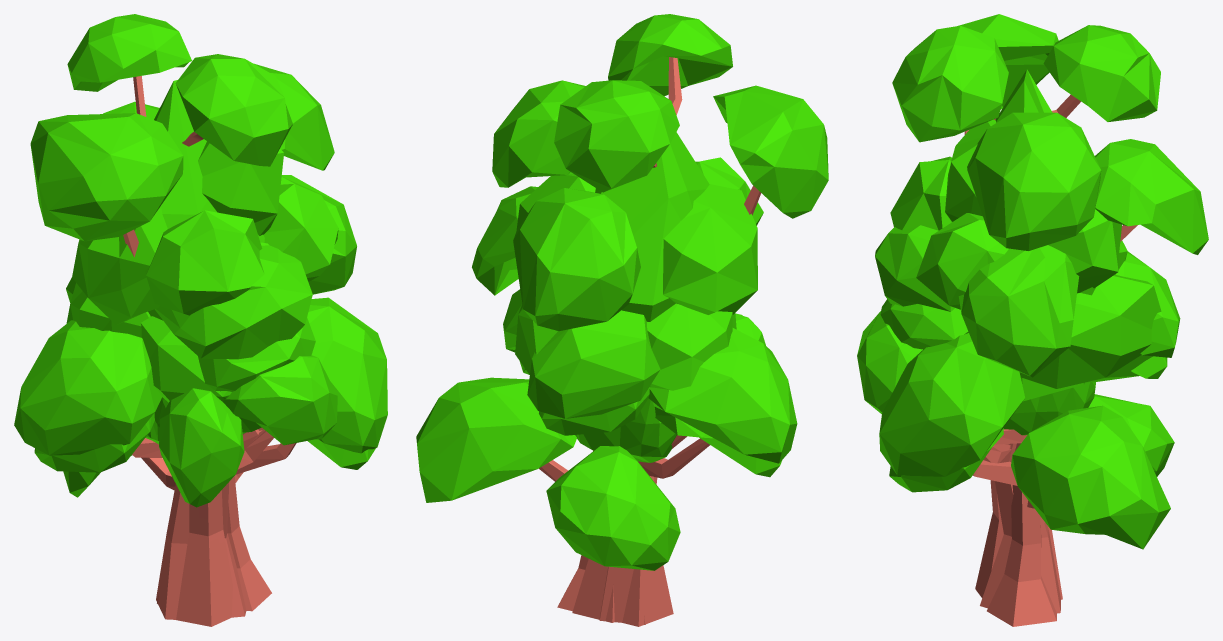
File: Trees.fbx
3 renders of one model, left to right at view 1: azimuth 30°, elevation 25°; view 2: azimuth 150°, elevation 25°; view 3: azimuth 270°, elevation 25°, orthographic. The views are drawn at different scales.
Visible parts, largest first — view 1: SM_Env_TreeBirch_02, SM_Env_Tree_012, SM_Env_Tree_016, SM_Env_Tree_015, SM_Env_Tree_010, SM_Env_Tree_011; view 2: SM_Env_TreeBirch_02, SM_Env_Tree_012, SM_Env_Tree_016, SM_Env_Tree_015, SM_Env_Tree_010, SM_Env_Tree_011; view 3: SM_Env_TreeBirch_02, SM_Env_Tree_012, SM_Env_Tree_016, SM_Env_Tree_015, SM_Env_Tree_010, SM_Env_Tree_011.
Boxes of the visible parts, x1=… form: SM_Env_TreeBirch_02: x1=30, y1=14, x2=356, y2=626; SM_Env_Tree_012: x1=14, y1=242, x2=387, y2=483; SM_Env_Tree_016: x1=66, y1=141, x2=338, y2=603; SM_Env_Tree_015: x1=34, y1=317, x2=375, y2=611; SM_Env_Tree_010: x1=148, y1=80, x2=273, y2=617; SM_Env_Tree_011: x1=145, y1=397, x2=245, y2=619; SM_Env_TreeBirch_02: x1=472, y1=14, x2=828, y2=484; SM_Env_Tree_012: x1=416, y1=289, x2=797, y2=622; SM_Env_Tree_016: x1=515, y1=157, x2=763, y2=624; SM_Env_Tree_015: x1=519, y1=361, x2=782, y2=611; SM_Env_Tree_010: x1=595, y1=132, x2=709, y2=321; SM_Env_Tree_011: x1=575, y1=398, x2=676, y2=626; SM_Env_TreeBirch_02: x1=857, y1=14, x2=1208, y2=597; SM_Env_Tree_012: x1=875, y1=225, x2=1180, y2=613; SM_Env_Tree_016: x1=890, y1=119, x2=1161, y2=599; SM_Env_Tree_015: x1=880, y1=299, x2=1174, y2=626; SM_Env_Tree_010: x1=980, y1=69, x2=1127, y2=608; SM_Env_Tree_011: x1=1003, y1=382, x2=1095, y2=435.
Bounding box in the file's own units: 4.15 × 6.58 × 3.75.
